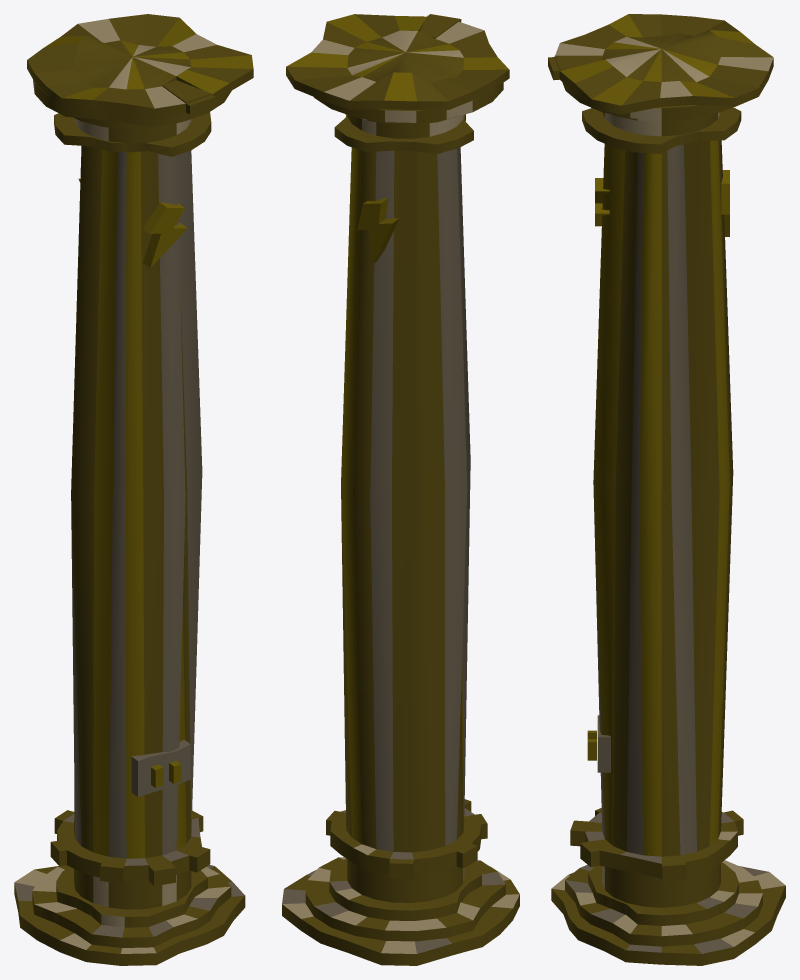
The model's file is pillarTall.fbx.
3 renders of one model, left to right at view 1: azimuth 30°, elevation 25°; view 2: azimuth 150°, elevation 25°; view 3: azimuth 270°, elevation 25°, orthographic.
Visible parts, largest first — view 1: pillar, plugBase1, oldThunder2; view 2: pillar, oldThunder3; view 3: pillar, plugBase1.
Boxes of the visible parts, x1,y1,x2,y2 form: pillar: [14, 14, 253, 965]; plugBase1: [131, 739, 190, 797]; oldThunder2: [142, 202, 187, 267]; pillar: [282, 14, 519, 965]; oldThunder3: [357, 198, 399, 263]; pillar: [548, 14, 785, 965]; plugBase1: [597, 715, 610, 772].
Size of the model in its own units: 5.85 by 24.53 by 6.07.
